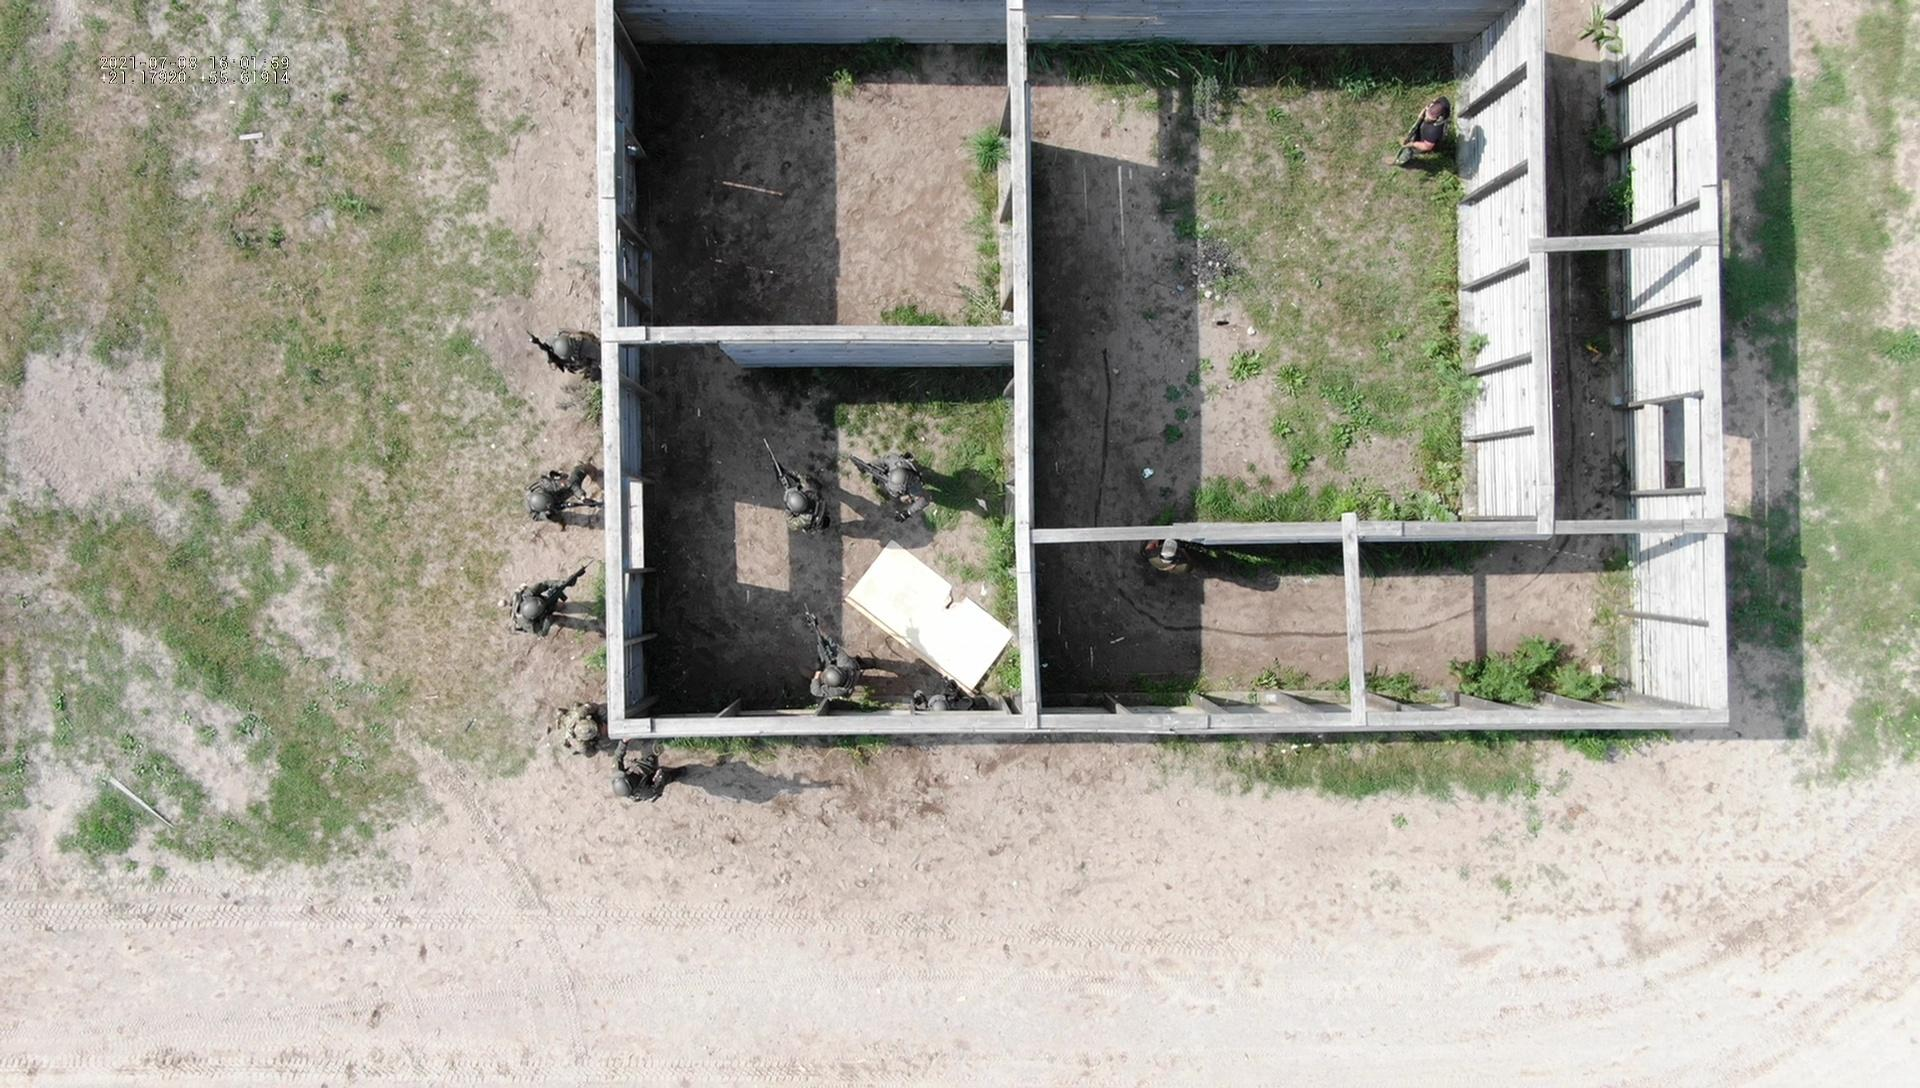Soldier: (731, 413, 852, 522), (1378, 82, 1497, 191), (804, 612, 928, 710), (853, 435, 942, 564), (527, 311, 607, 422), (514, 462, 615, 549), (601, 735, 705, 816), (504, 554, 592, 644), (1131, 529, 1220, 616), (546, 686, 621, 773)
